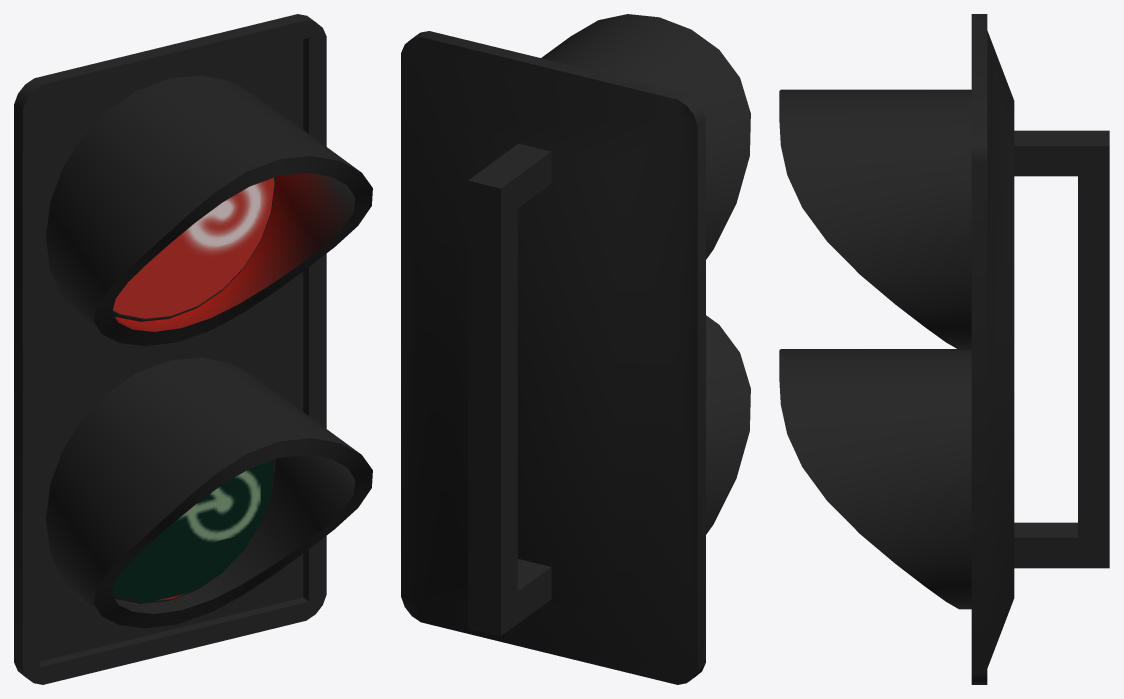
The model's file is sm_trli_danchedeng.fbx.
3 renders of one model, left to right at view 1: azimuth 30°, elevation 25°; view 2: azimuth 150°, elevation 25°; view 3: azimuth 270°, elevation 25°, orthographic. The views are drawn at different scales.
Visible parts, largest first — view 1: sm_trli_danchedeng; view 2: sm_trli_danchedeng; view 3: sm_trli_danchedeng.
Part boxes in pixels (left/top/right/bottom): sm_trli_danchedeng: left=14, top=14, right=372, bottom=684; sm_trli_danchedeng: left=401, top=14, right=750, bottom=684; sm_trli_danchedeng: left=779, top=14, right=1109, bottom=684.
Size of the model in its own units: 0.4886 by 0.9216 by 0.4998.
